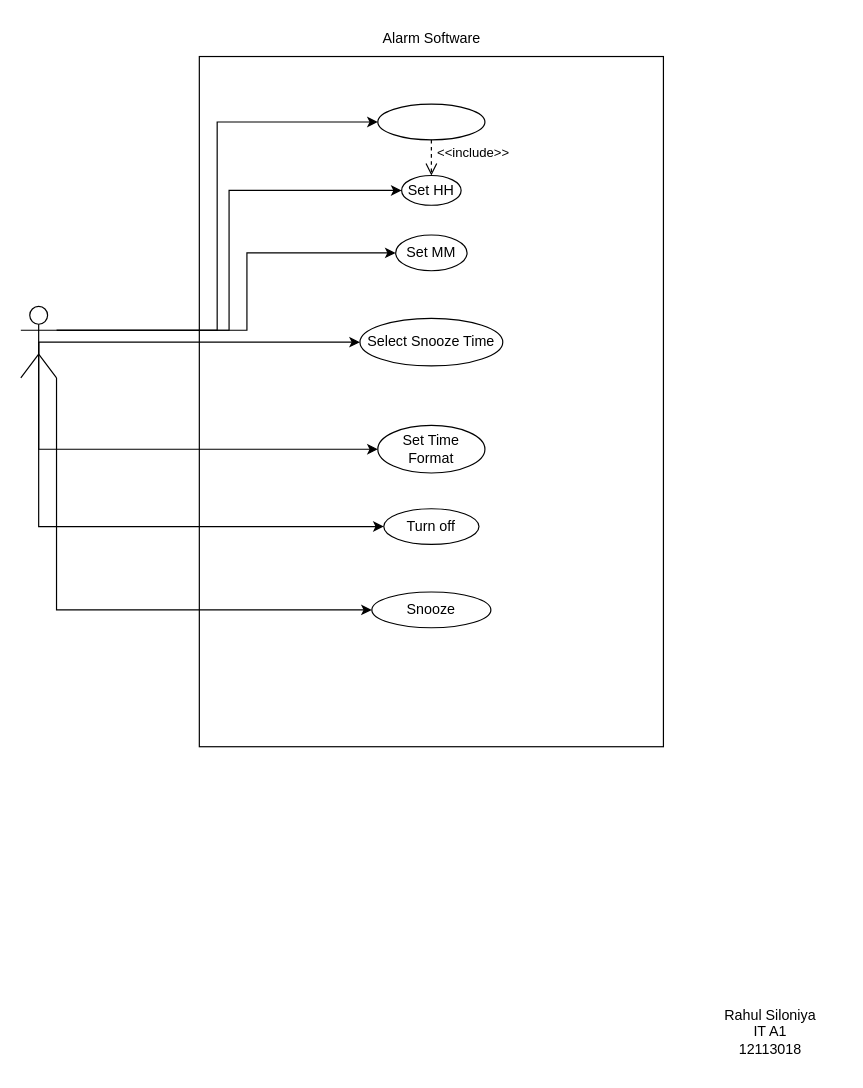
Image size: 863x1088. Some labels were removed from this diagram. Here are the shapes that lost their labels. From the top down, the centre of each, then its label:
(431,121): Alarm number
(38,341): User
